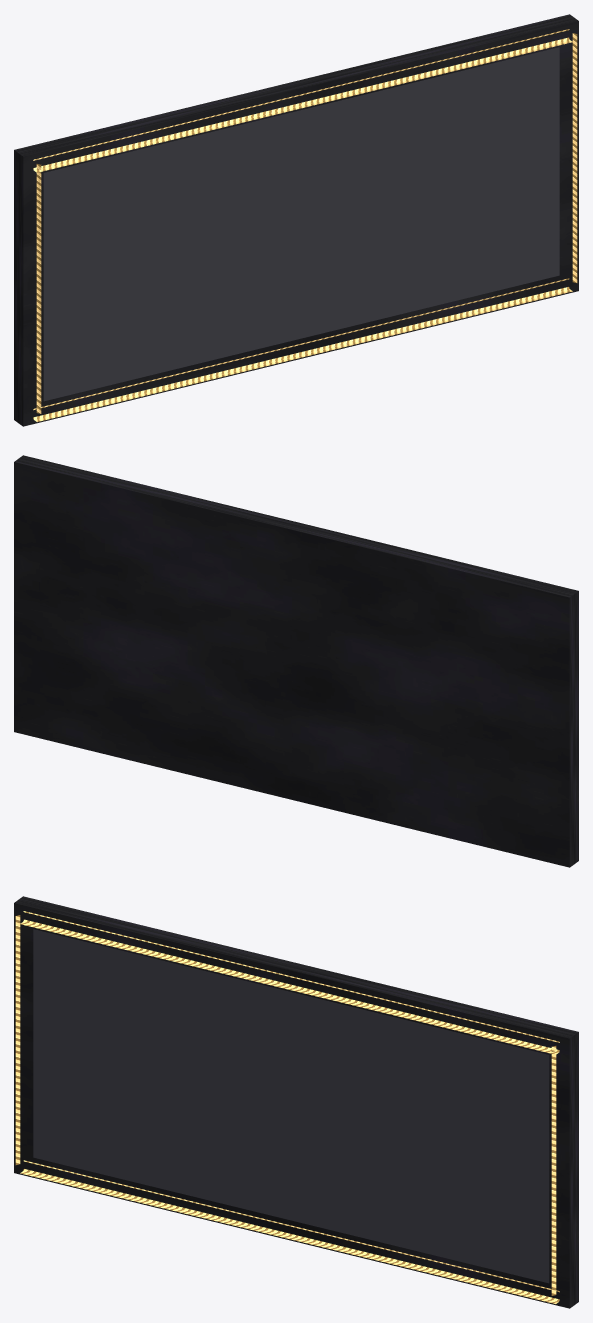
Rendered from mw_monitor.glb.
3 views of the same model, one above another, from view 1: azimuth 30°, elevation 25°; view 2: azimuth 150°, elevation 25°; view 3: azimuth 330°, elevation 25° (orthographic).
Visible parts, largest first — view 1: monitor; view 2: monitor; view 3: monitor.
Boxes of the visible parts, x1,y1,x2,y2 form: monitor: (14,14,578,426); monitor: (14,455,578,867); monitor: (14,896,578,1308).
Size of the model in its own units: 2.8 by 1.3 by 0.13.
3 materials, 2 textured.
